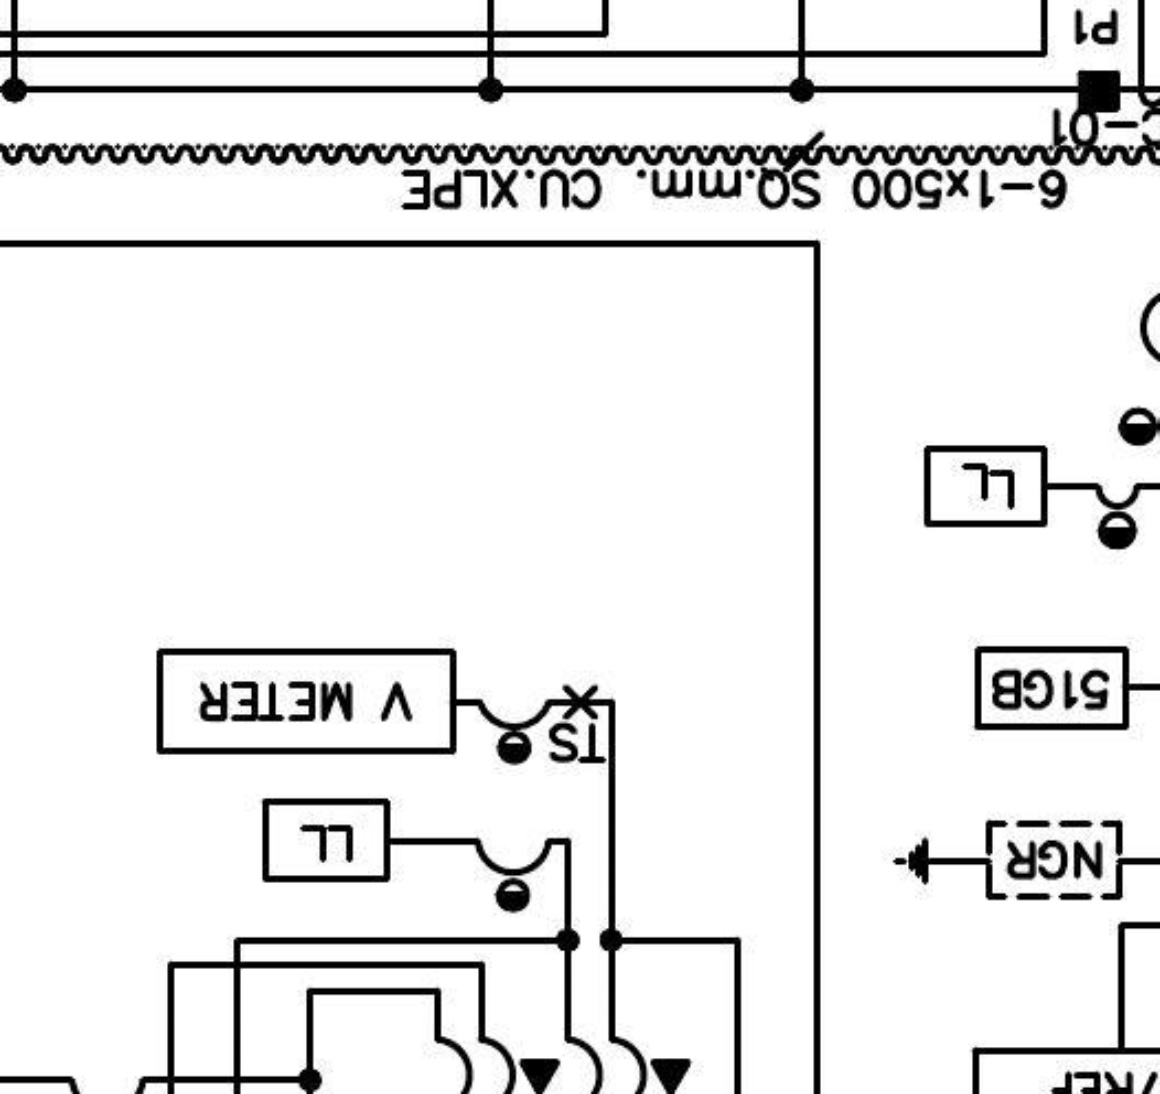LL: (260, 795, 392, 884), (922, 445, 1050, 528)
NGR_future: (892, 818, 1125, 901)
v_m_digital: (154, 646, 460, 757)
